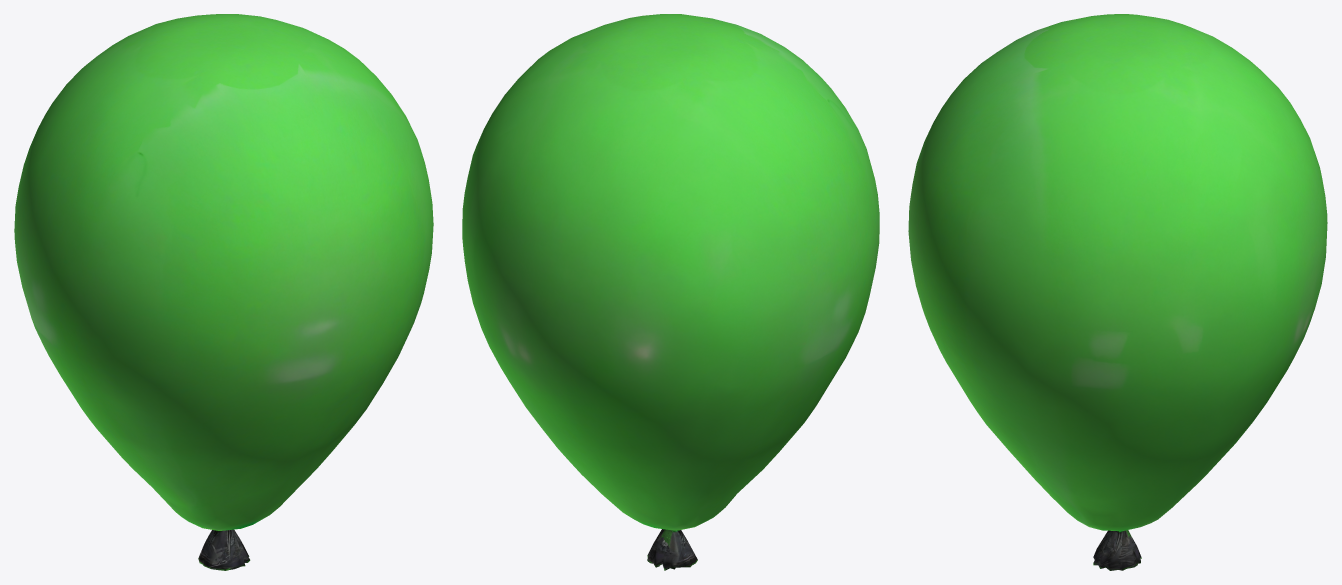
File: A_single_low_poly_3D__1213235851_texture.fbx
3 renders of one model, left to right at view 1: azimuth 30°, elevation 25°; view 2: azimuth 150°, elevation 25°; view 3: azimuth 270°, elevation 25°, orthographic.
Visible parts, largest first — view 1: Mesh_0; view 2: Mesh_0; view 3: Mesh_0.
Boxes of the visible parts, <box> form: Mesh_0: <box>14,14,433,570</box>; Mesh_0: <box>462,14,879,570</box>; Mesh_0: <box>908,14,1327,570</box>.
Size of the model in its own units: 130 by 181 by 130.
Materials: 1 (1 with a texture image).
